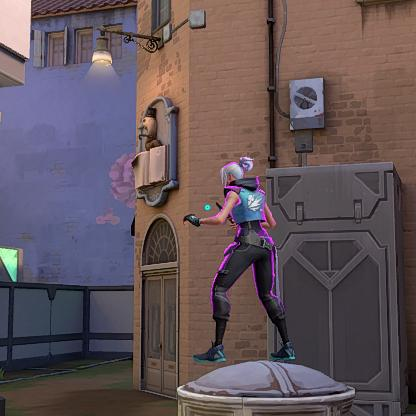enemyBody: (231, 187, 265, 228)
enemyHead: (226, 167, 241, 180)
